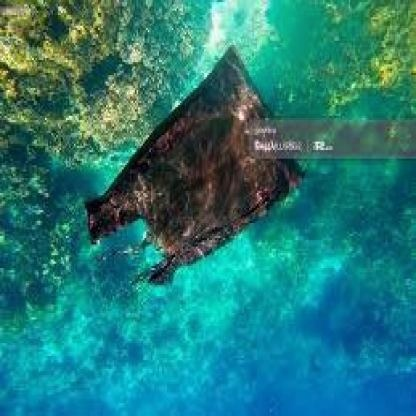pbag: (84, 45, 308, 287)
